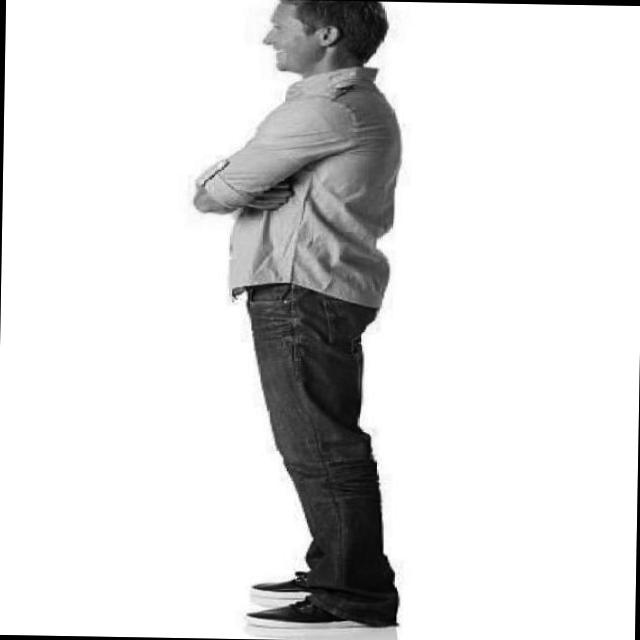person: (222, 2, 435, 623)
